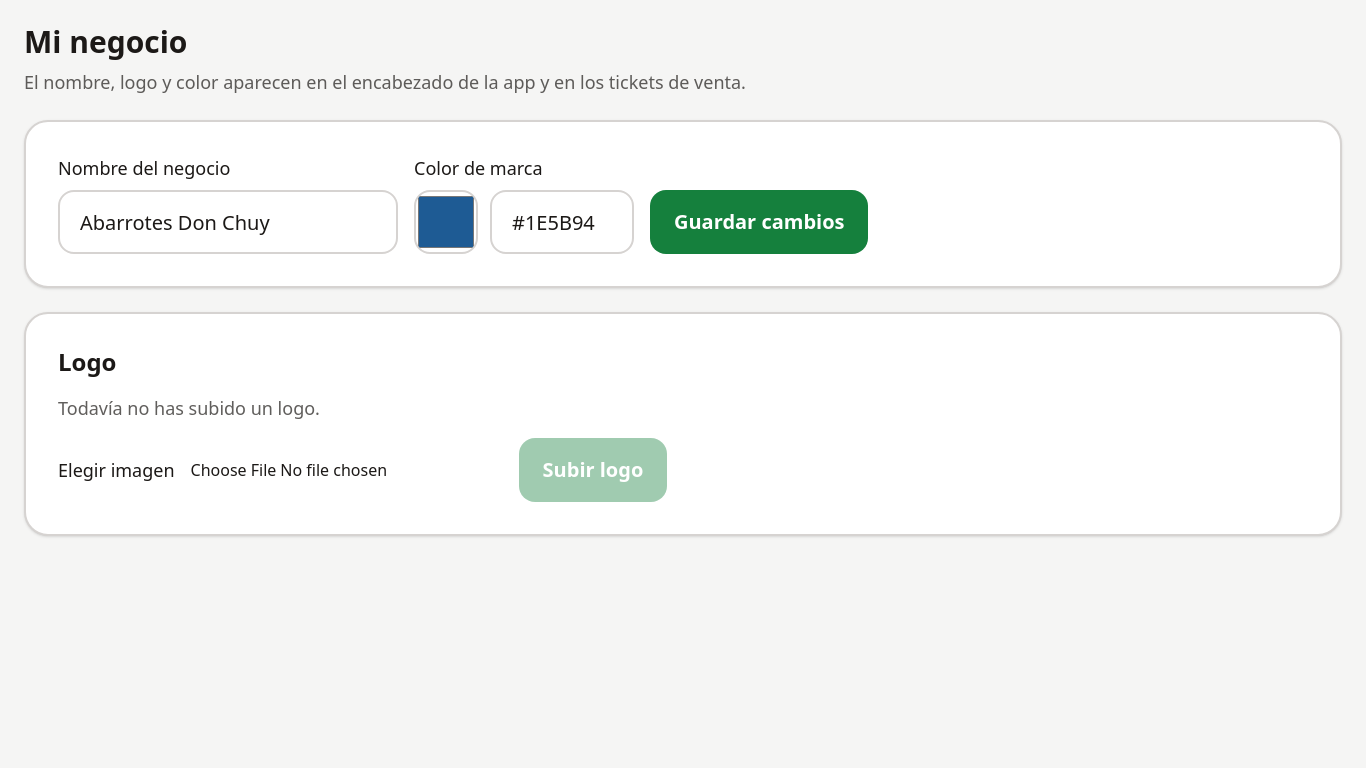
Test: StoreBrandingScreen › si el backend rechaza (403), muestra el mensaje humano sin romper la pantalla
Click the button "Guardar cambios" at (759,222), box [650, 190, 868, 254]
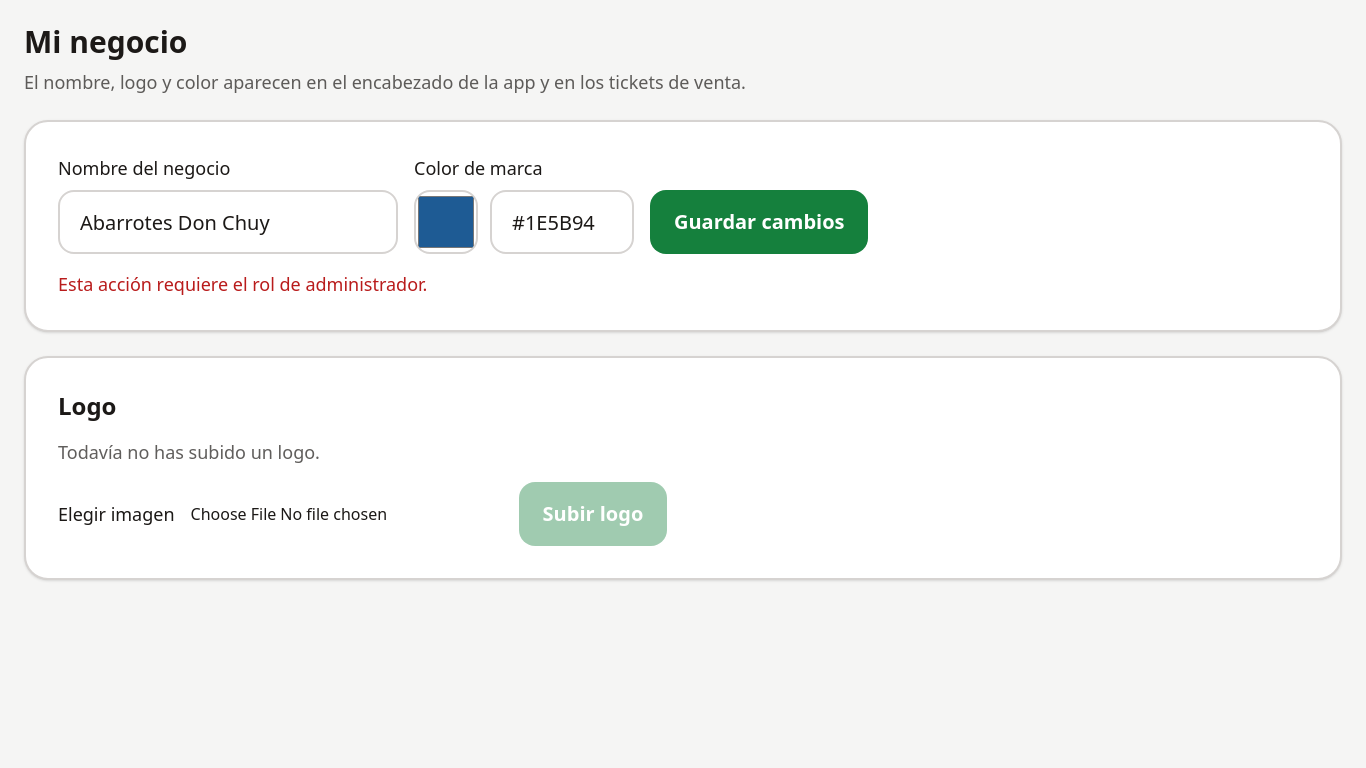
Now the text "Esta acción requiere el rol de administrador." is shown, box [58, 272, 428, 296]
